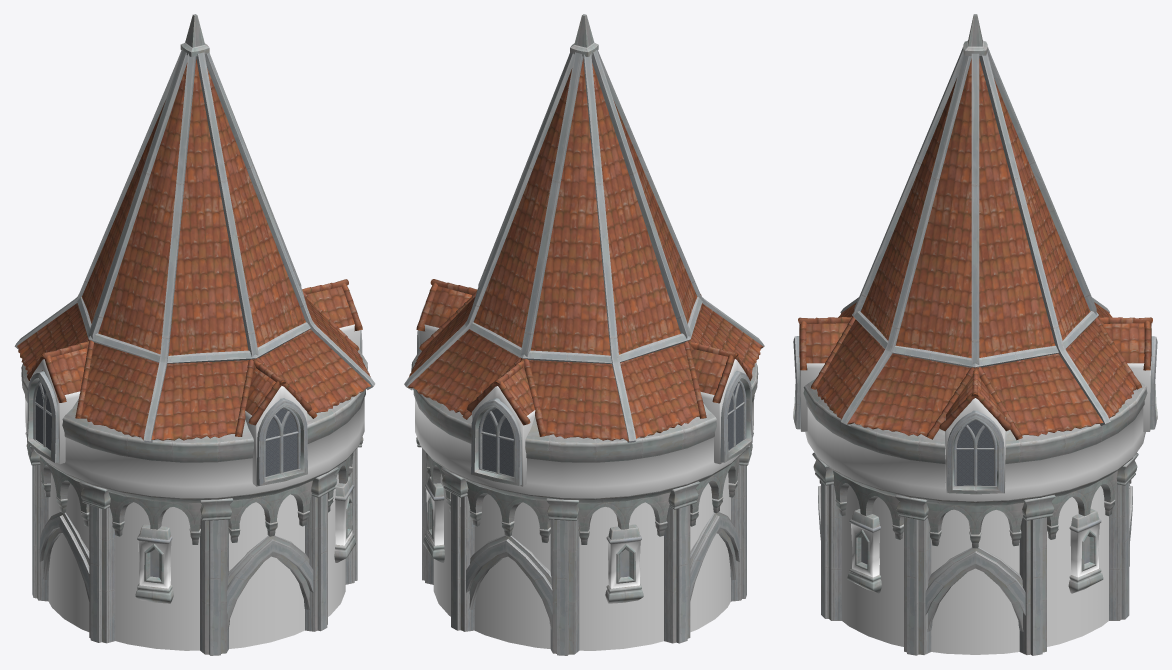
File: SM_TowerB_Top_03_Window.fbx
3 views of the same model, side by side, from view 1: azimuth 30°, elevation 25°; view 2: azimuth 150°, elevation 25°; view 3: azimuth 270°, elevation 25° (orthographic).
Parts seen in each view (by area): view 1: SM_TowerB_Top_03_Window_LOD0; view 2: SM_TowerB_Top_03_Window_LOD0; view 3: SM_TowerB_Top_03_Window_LOD0.
Part boxes in pixels (<box>): SM_TowerB_Top_03_Window_LOD0: <box>14,14,375,655</box>; SM_TowerB_Top_03_Window_LOD0: <box>404,14,764,655</box>; SM_TowerB_Top_03_Window_LOD0: <box>793,14,1157,655</box>.
Size of what is drawn, in the model's own units: 9.59 by 16.72 by 9.59.
